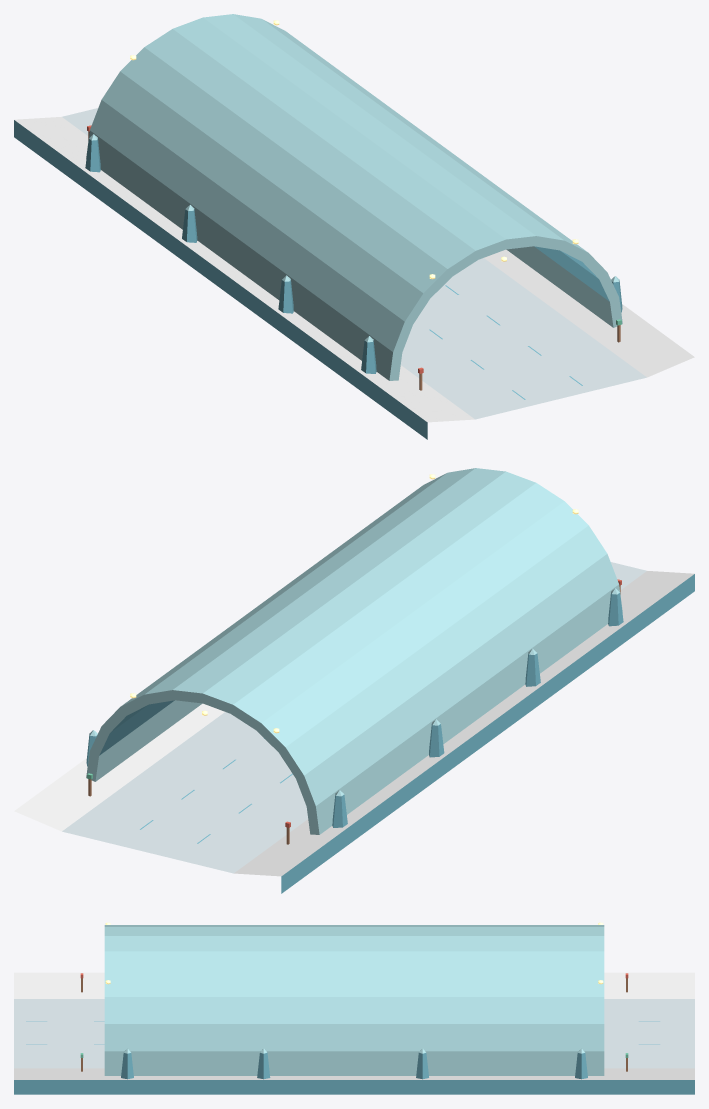
File: ice_tunnel.glb
3 renders of one model, top to bottom at view 1: azimuth 30°, elevation 25°; view 2: azimuth 150°, elevation 25°; view 3: azimuth 270°, elevation 25°, orthographic. The views are drawn at different scales.
Visible parts, largest first — view 1: Tile_ice_tunnel; view 2: Tile_ice_tunnel; view 3: Tile_ice_tunnel.
Boxes of the visible parts, left/top/right/bottom form: Tile_ice_tunnel: left=14, top=14, right=694, bottom=439; Tile_ice_tunnel: left=14, top=468, right=694, bottom=893; Tile_ice_tunnel: left=14, top=922, right=694, bottom=1094.
Size of the model in its own units: 11.2 by 5.1 by 30.
